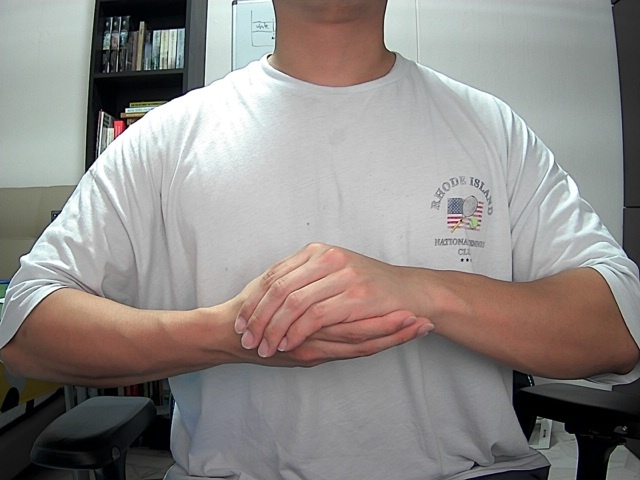Monkey: (196, 217, 463, 401)
